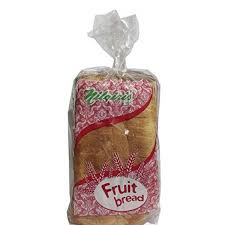bread: (64, 26, 159, 225)
